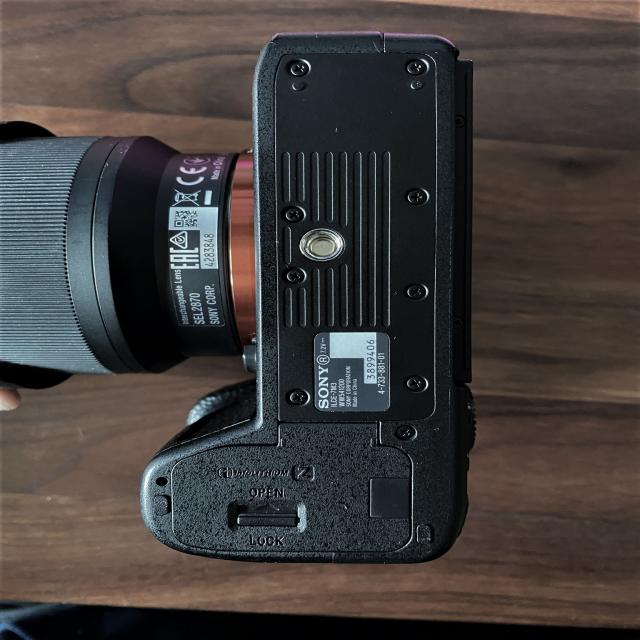PhillipsScrewHead: (406, 188, 428, 206), (405, 284, 428, 301), (394, 424, 417, 440), (289, 389, 309, 407), (408, 376, 428, 392), (284, 207, 305, 222), (289, 62, 311, 76), (451, 314, 466, 334), (407, 61, 428, 75), (287, 269, 305, 284), (454, 115, 465, 128)
